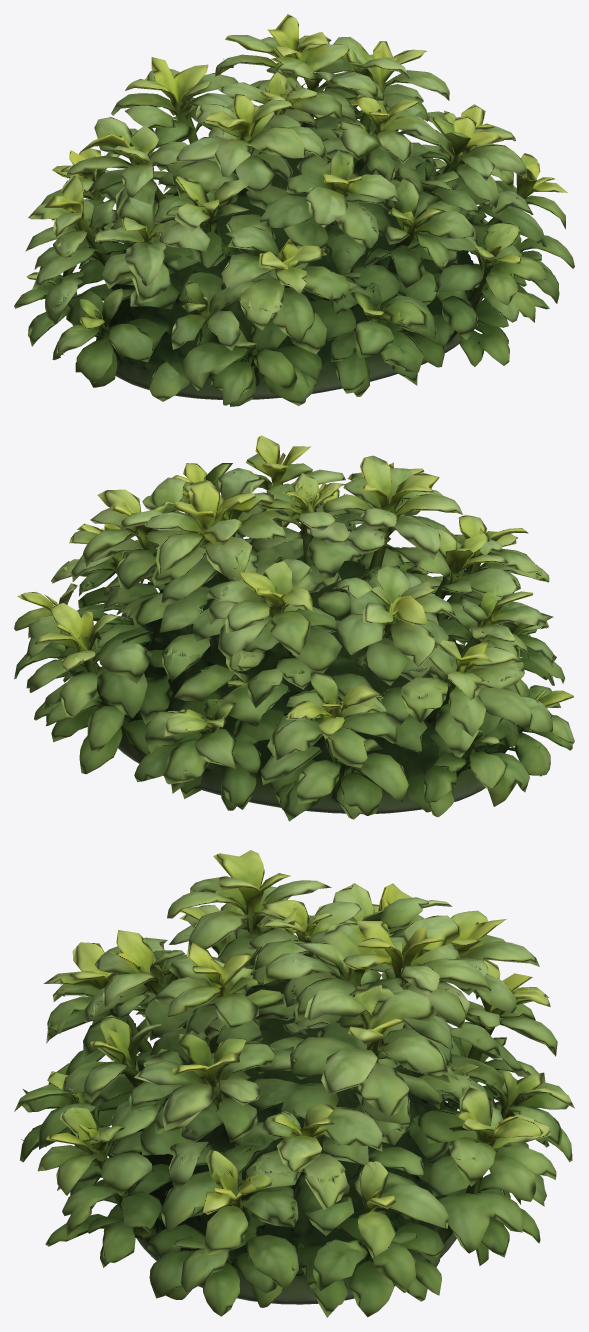
Rendered from tripo_convert_5c277269-83c7-4637-b74d-d2c6f8ce4517.fbx.
3 renders of one model, top to bottom at view 1: azimuth 30°, elevation 25°; view 2: azimuth 150°, elevation 25°; view 3: azimuth 270°, elevation 25°, orthographic. The views are drawn at different scales.
Visible parts, largest first — view 1: tripo_node_5c277269; view 2: tripo_node_5c277269; view 3: tripo_node_5c277269.
Boxes of the visible parts, bbox=[...] form: tripo_node_5c277269: bbox=[14, 14, 574, 406]; tripo_node_5c277269: bbox=[14, 435, 574, 821]; tripo_node_5c277269: bbox=[14, 850, 574, 1317].
Size of the model in its own units: 0.9799 by 0.5078 by 0.8318.
1 material, 1 textured.
